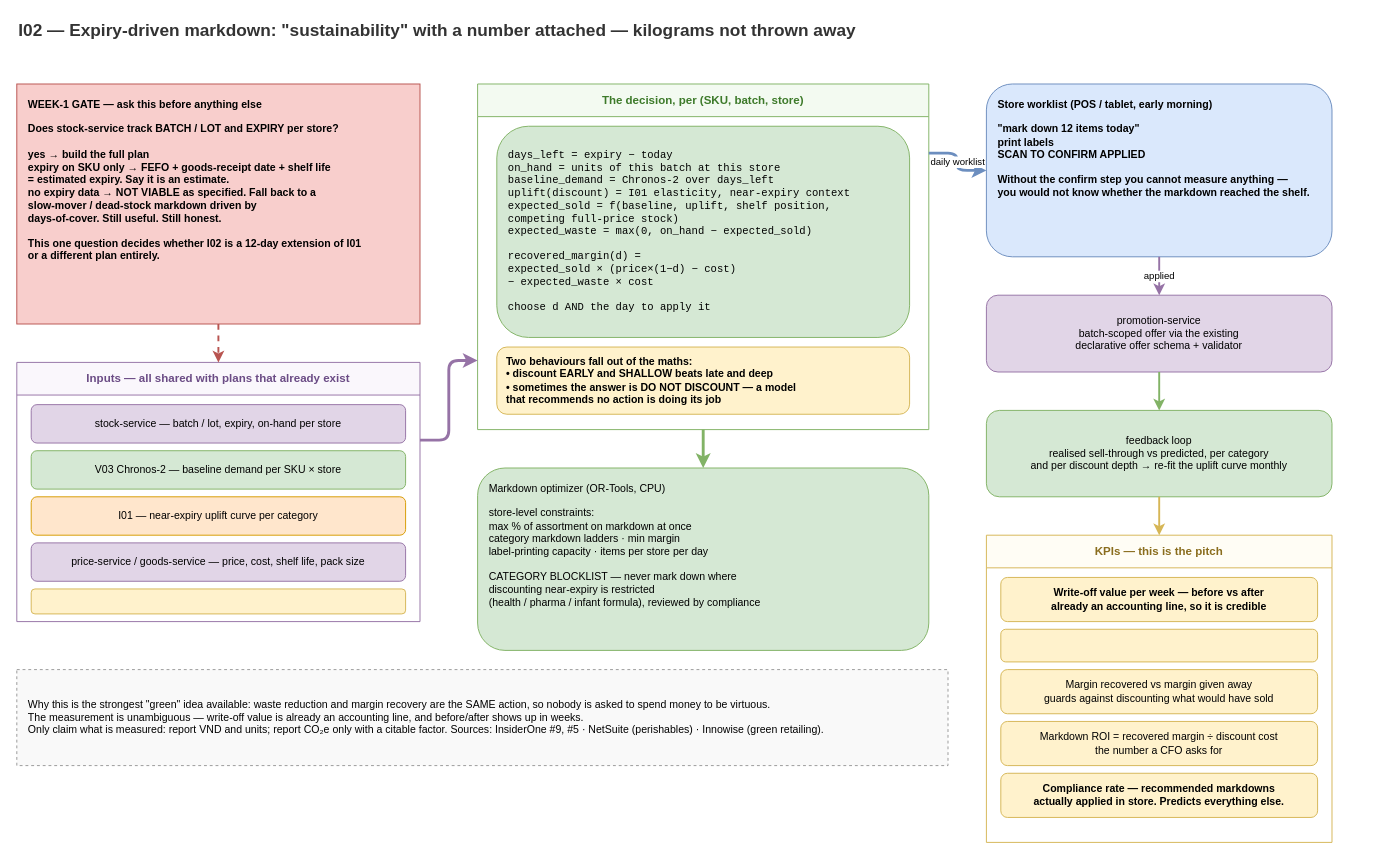
Some shapes in this 1378 by 859 pixel diagram are drawn without their labels. The centre of each missing label's shape, as x and y in pixels:
dim_calendar — Tet and holiday demand cliffs: (218,601)
Waste avoided — units and VND: (1159,645)
